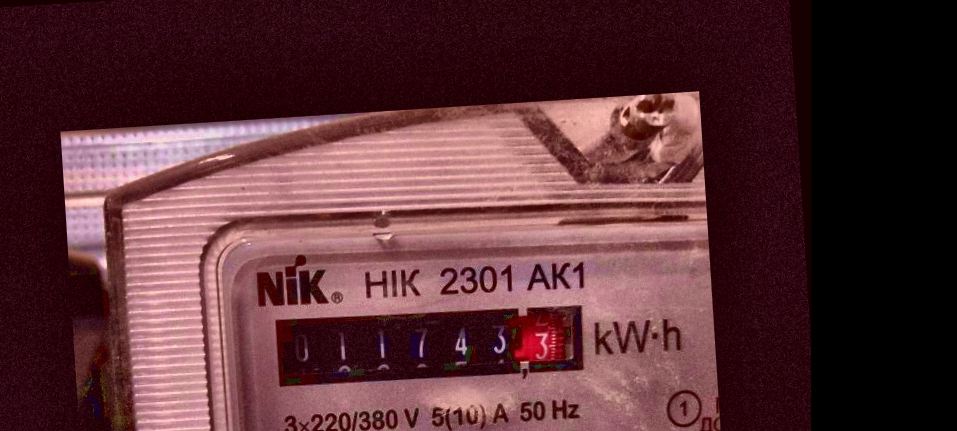0: (290, 328, 311, 365)
1: (373, 324, 390, 359), (336, 327, 348, 360)
3: (487, 319, 508, 356), (531, 329, 551, 363)
4: (450, 322, 469, 357)
7: (411, 323, 431, 358)
screen: (259, 287, 599, 402)
